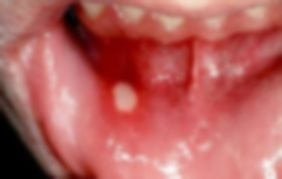Ulcer: (111, 81, 142, 113)
